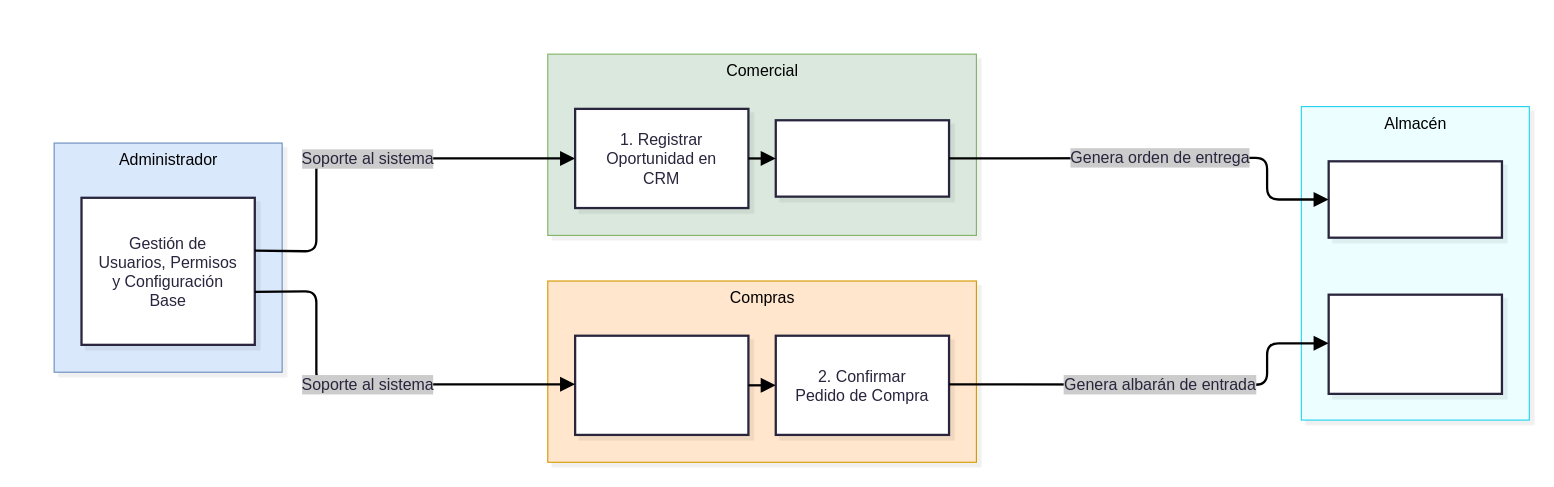
Some shapes in this 1554 by 487 pixel diagram are drawn without their labels. Each missing label, with the centre of its shape:
"1. Solicitud de Presupuesto a Proveedor" belongs at [663,387].
"2. Confirmar Pedido de Venta" belongs at [864,160].
"3. Validar Recepción de Mercancía" belongs at [1417,346].
"3. Validar Salida de Stock" belongs at [1417,201].
